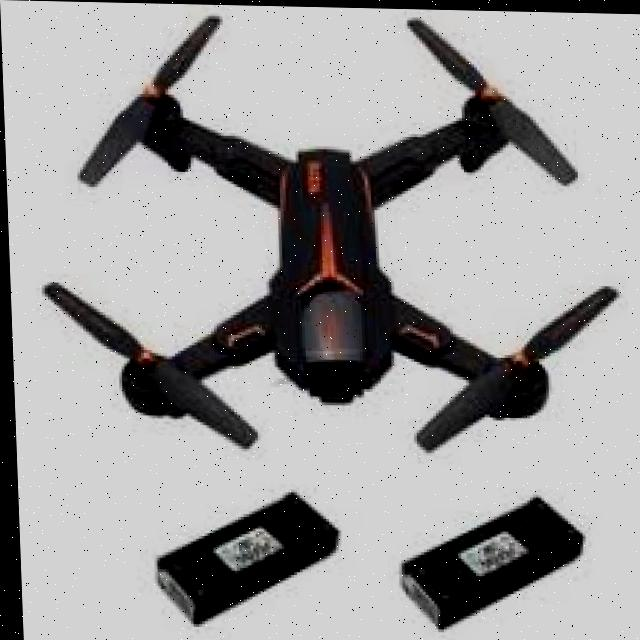drone: (33, 7, 625, 473)
